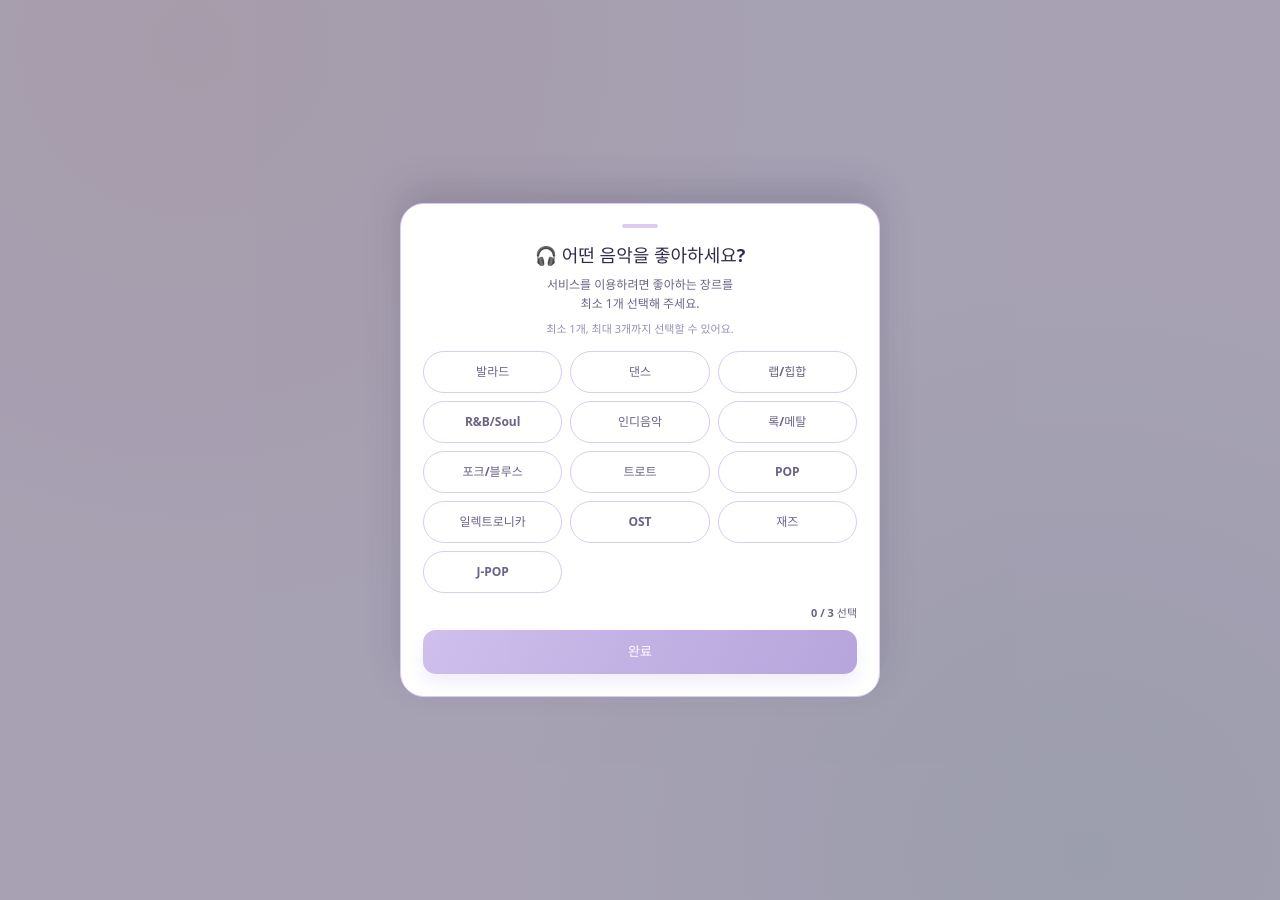
it: AppRouter required genre onboarding › blocks a direct protected URL until the user saves a genre
This screenshot has width=1280, height=900.
Expected: the dialog is shown, [400,203,880,697]
Expected: the heading "취향 투표" is not shown
Click the button "POP": (787, 472) [718,451,857,493]
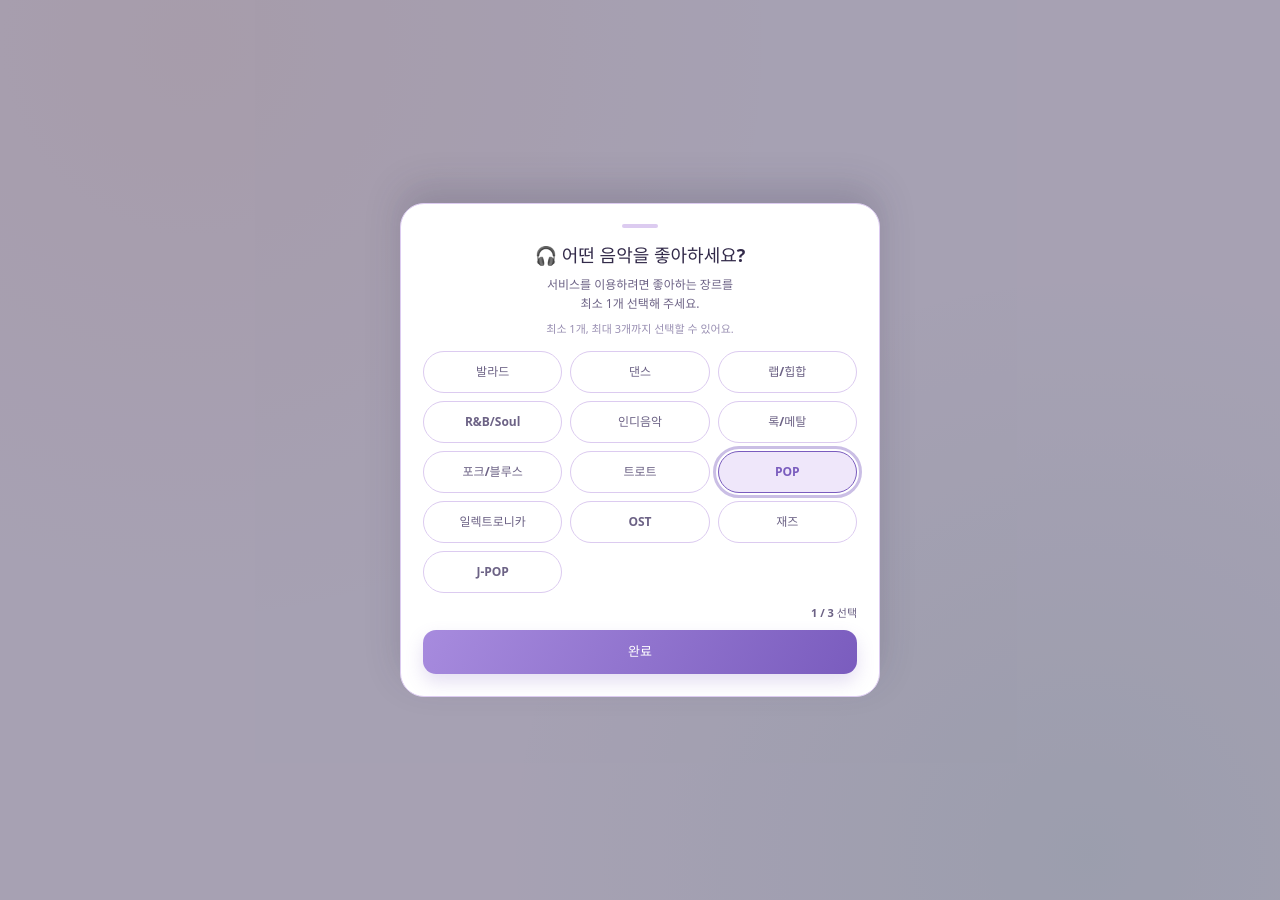
Click the button "완료": (640, 652) [423,630,857,674]
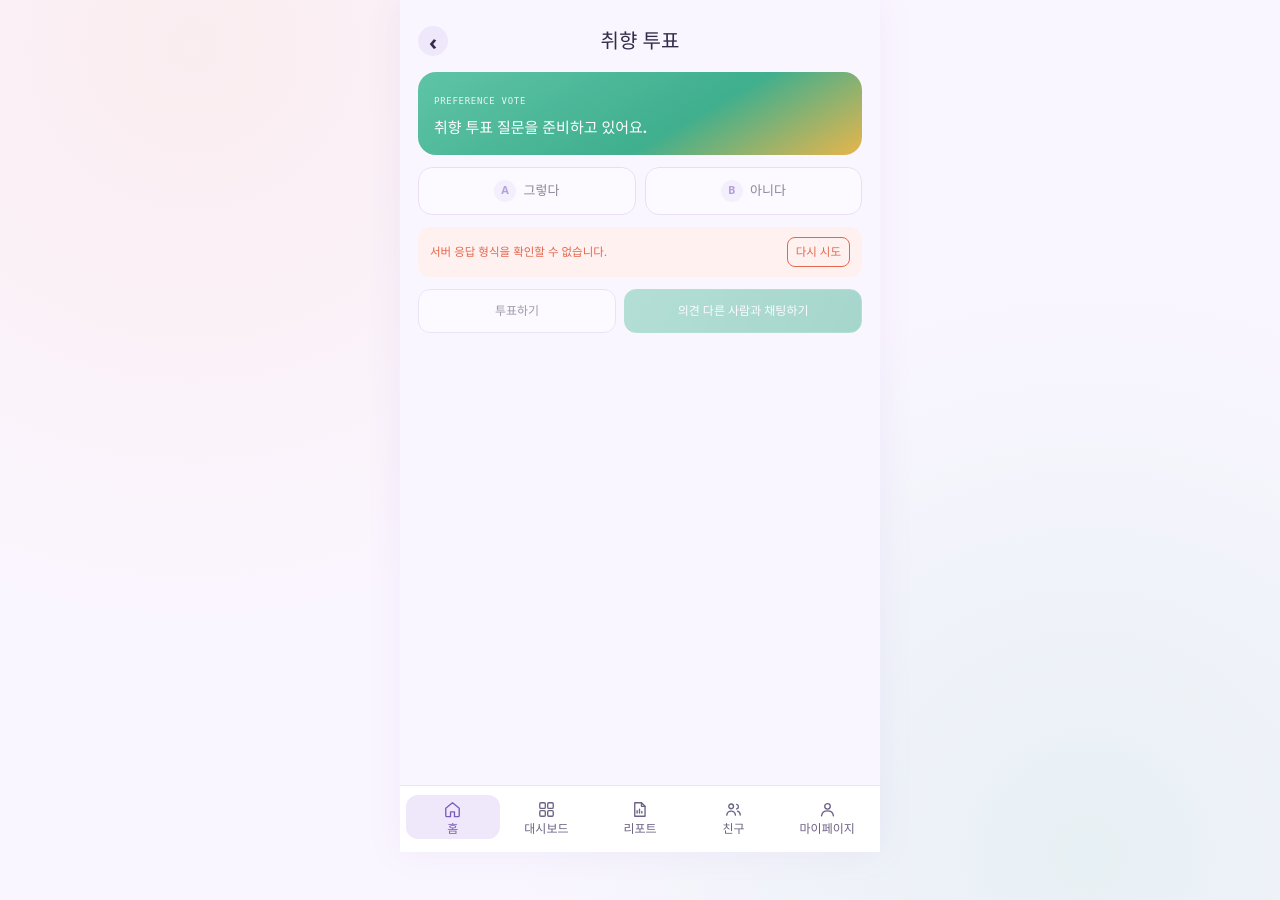
Expected: the heading "취향 투표" is shown, [601,27,679,54]
